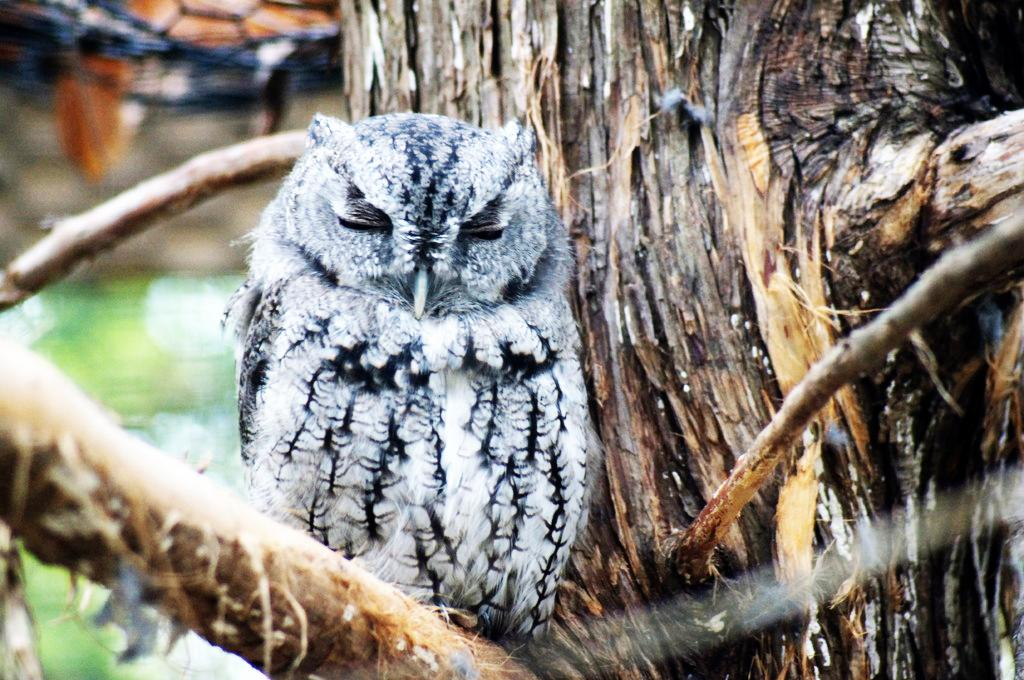Owl: (219, 113, 593, 660)
